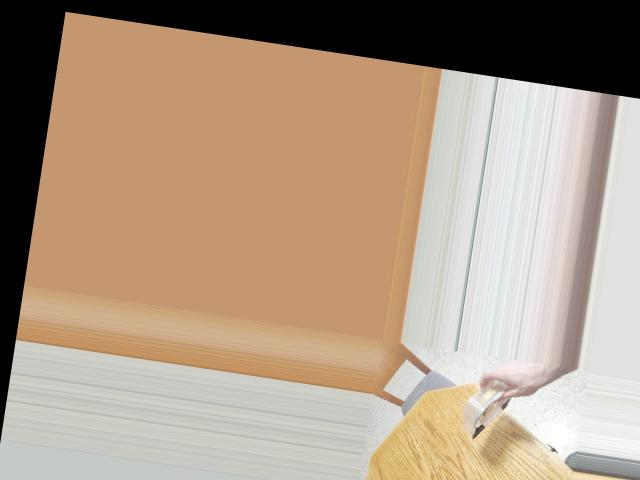cheese: (452, 367, 536, 440)
